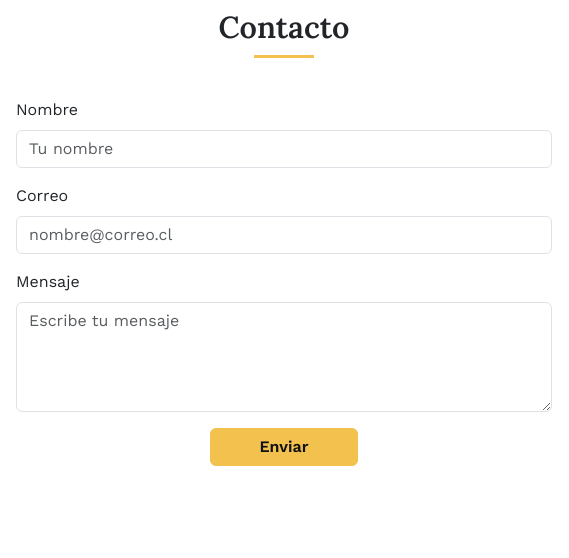
Test: Contacto › muestra los tres errores si se envía vacío
The width and height of the screenshot is (569, 558).
Click the button "Enviar" at (284, 446), box [210,428,358,466]
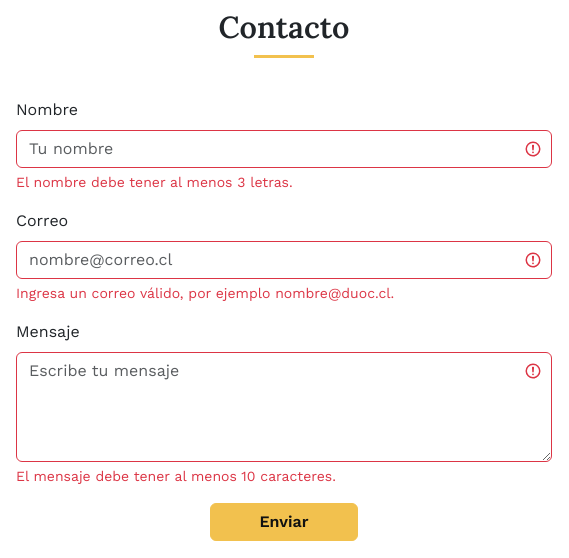
Check: the text "El nombre debe tener al menos 3 letras." is shown, box [16,174,293,190]
Check: the text "Ingresa un correo válido, por ejemplo nombre@duoc.cl." is shown, box [16,284,394,300]
Check: the text "El mensaje debe tener al menos 10 caracteres." is shown, box [16,468,336,484]
